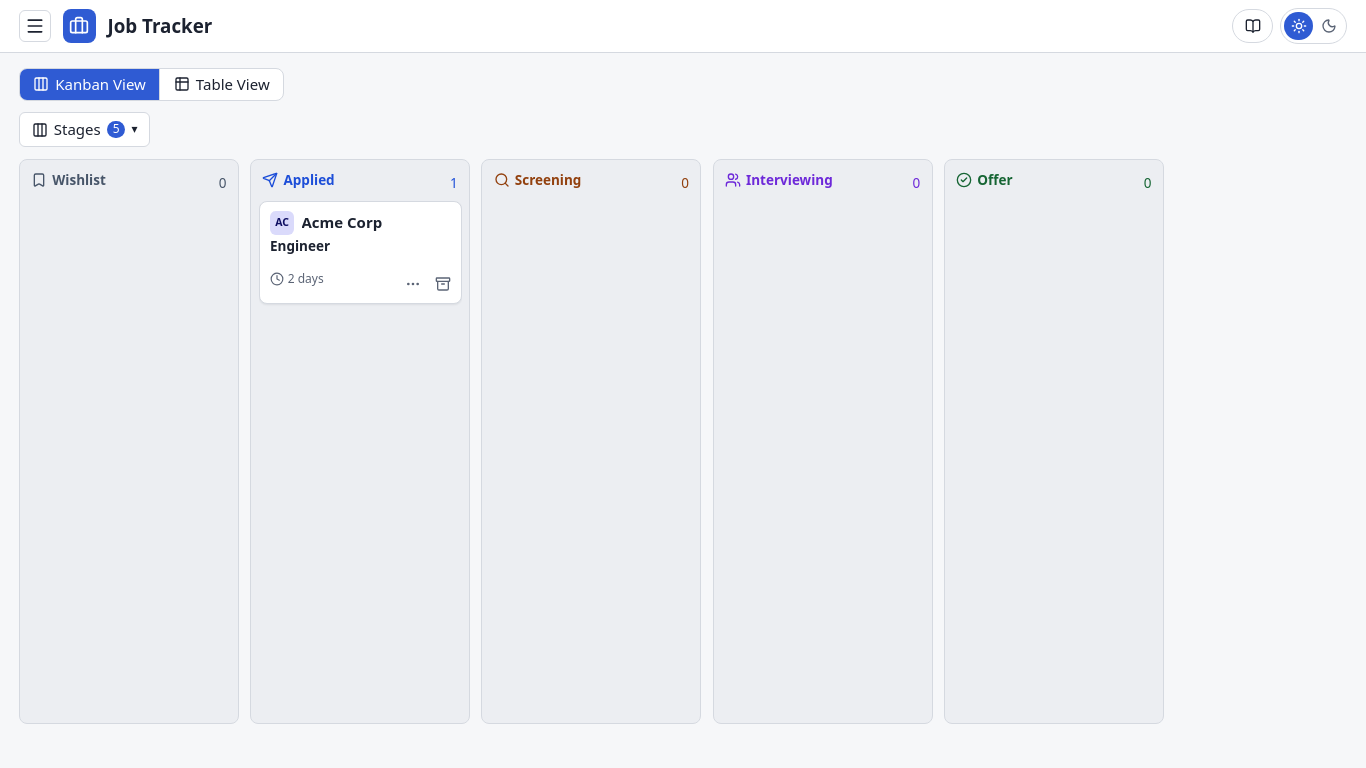
it: the sidebar on a narrow screen (spec 014, AC-8, AC-9, AC-10) › is out of the page until the menu button opens it, and the button says whether it is open (AC-8)
Expected: the button "AC Acme Corp Engineer 2 days" is shown, [258, 201, 462, 304]
Click the button named "Menu" at (35, 26), box [19, 10, 51, 42]
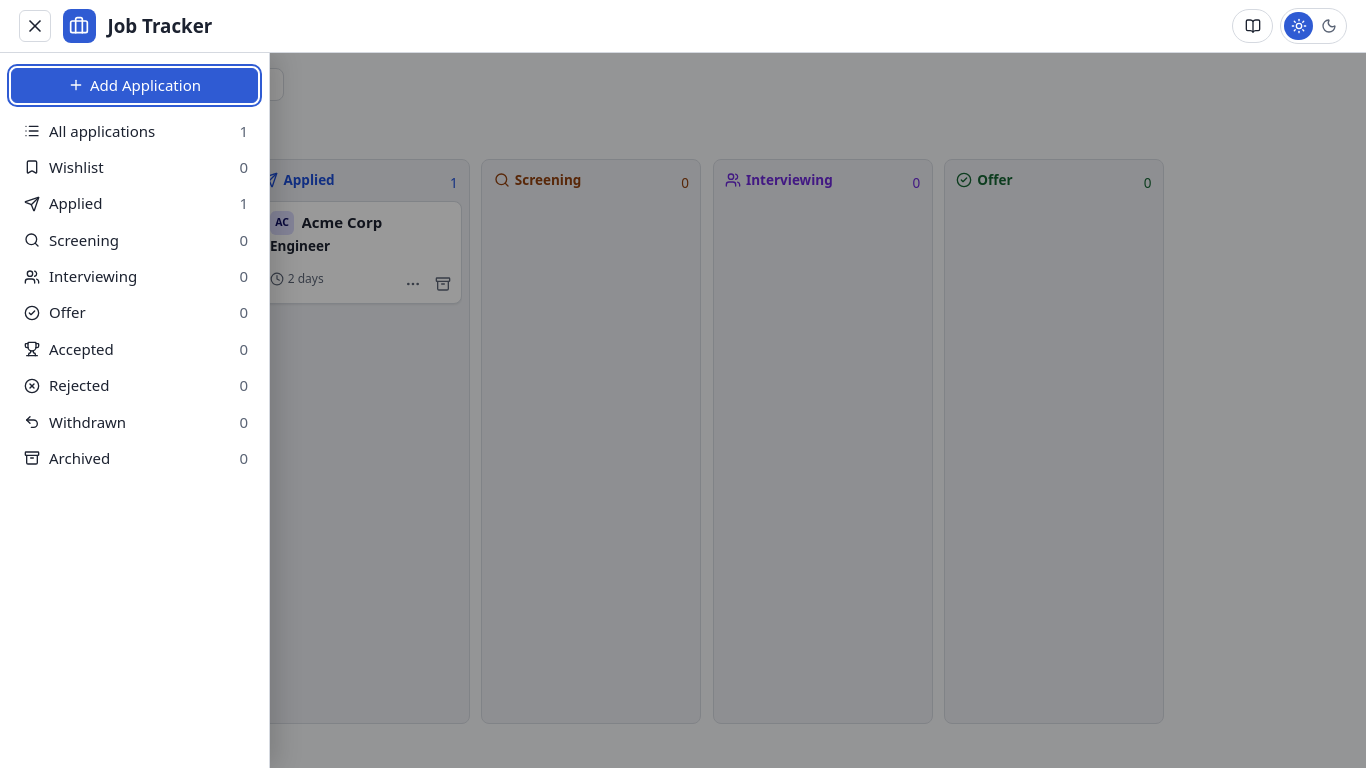
Now the dialog named "Menu" is shown, box [0, 52, 270, 767]
Now the button named "Menu" is expanded, box [19, 10, 51, 42]
